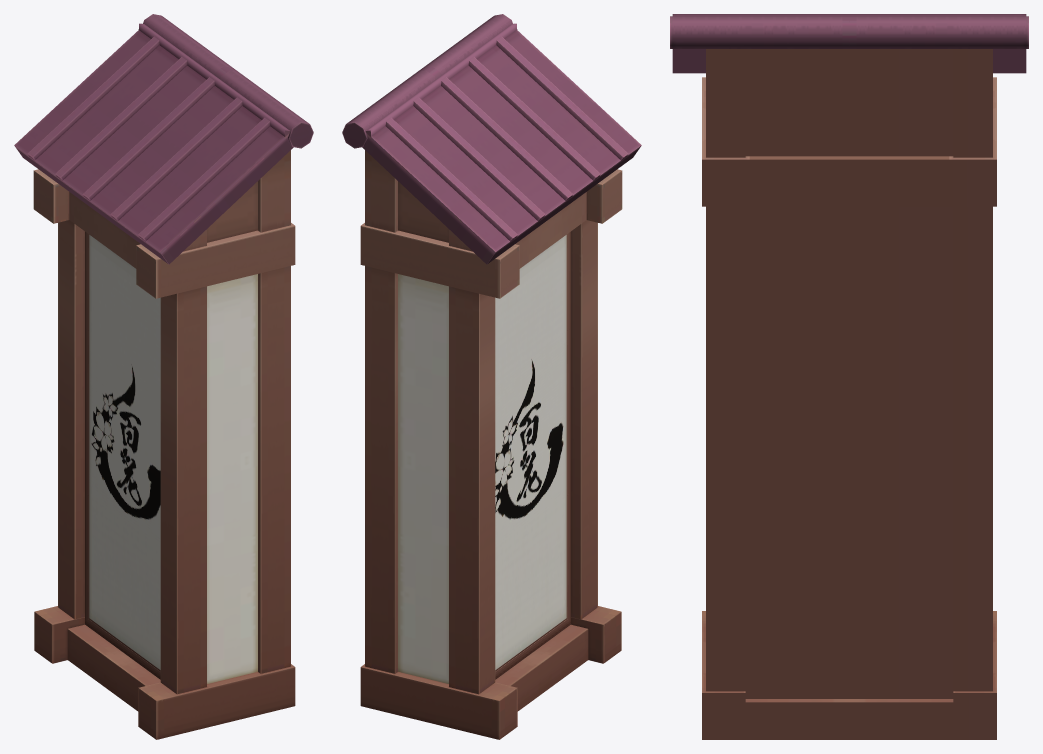
The model's file is my_hyakkiyako_01_wallacc_02.glb.
3 views of the same model, side by side, from view 1: azimuth 30°, elevation 25°; view 2: azimuth 150°, elevation 25°; view 3: azimuth 270°, elevation 25° (orthographic). The views are drawn at different scales.
Visible parts, largest first — view 1: my_hyakkiyako_01_wallacc_02; view 2: my_hyakkiyako_01_wallacc_02; view 3: my_hyakkiyako_01_wallacc_02.
Part boxes in pixels (left/top/right/bottom): my_hyakkiyako_01_wallacc_02: left=14, top=14, right=313, bottom=739; my_hyakkiyako_01_wallacc_02: left=342, top=14, right=641, bottom=739; my_hyakkiyako_01_wallacc_02: left=670, top=14, right=1028, bottom=739.
Size of the model in its own units: 0.00567 by 0.0209 by 0.00944.
1 material, 1 textured.
